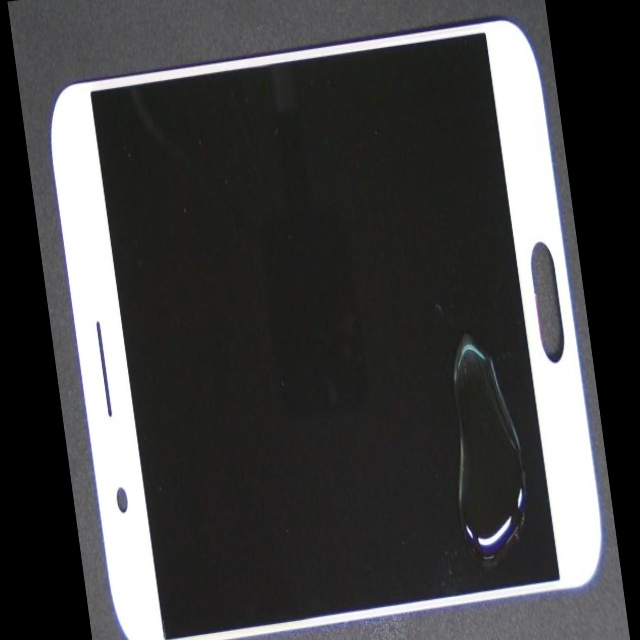oil: (273, 260, 633, 640)
